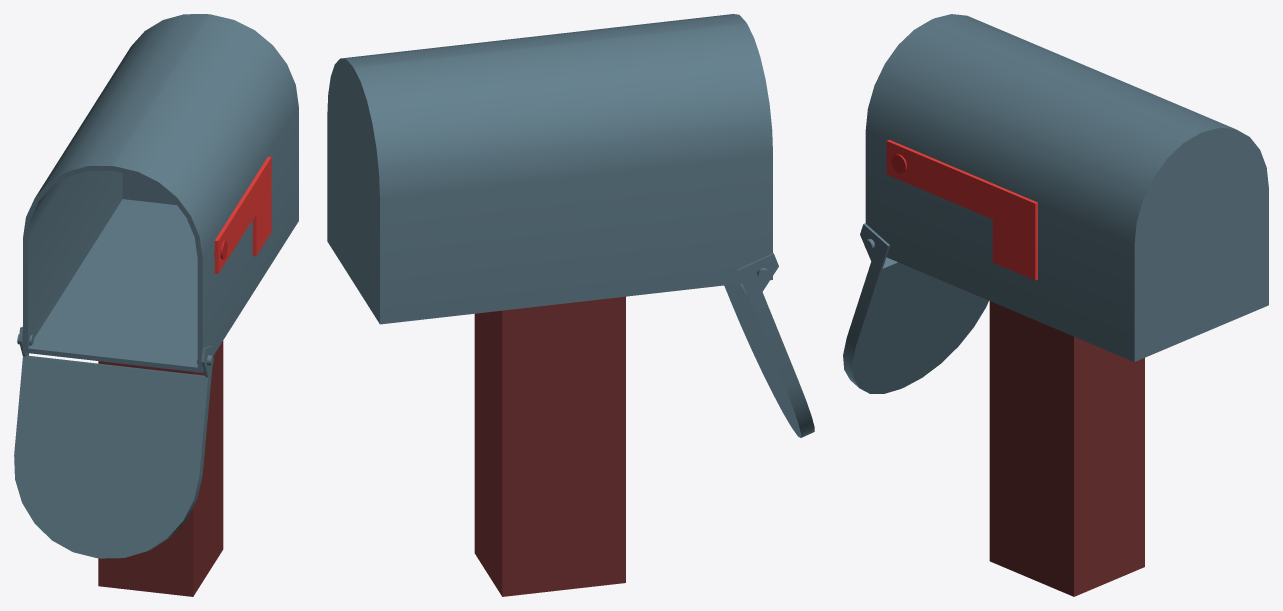
The model's file is open_mailbox_with_lowered_flag.gltf.
3 renders of one model, left to right at view 1: azimuth 30°, elevation 25°; view 2: azimuth 150°, elevation 25°; view 3: azimuth 270°, elevation 25°, orthographic. The views are drawn at different scales.
Visible parts, largest first — view 1: Cube.973; view 2: Cube.973; view 3: Cube.973.
Part boxes in pixels (bbox=[...]): Cube.973: bbox=[14, 14, 298, 596]; Cube.973: bbox=[327, 14, 814, 596]; Cube.973: bbox=[843, 14, 1268, 596].
Size of the model in its own units: 1.51 by 1.91 by 1.51.
Materials: 1 (1 with a texture image).
